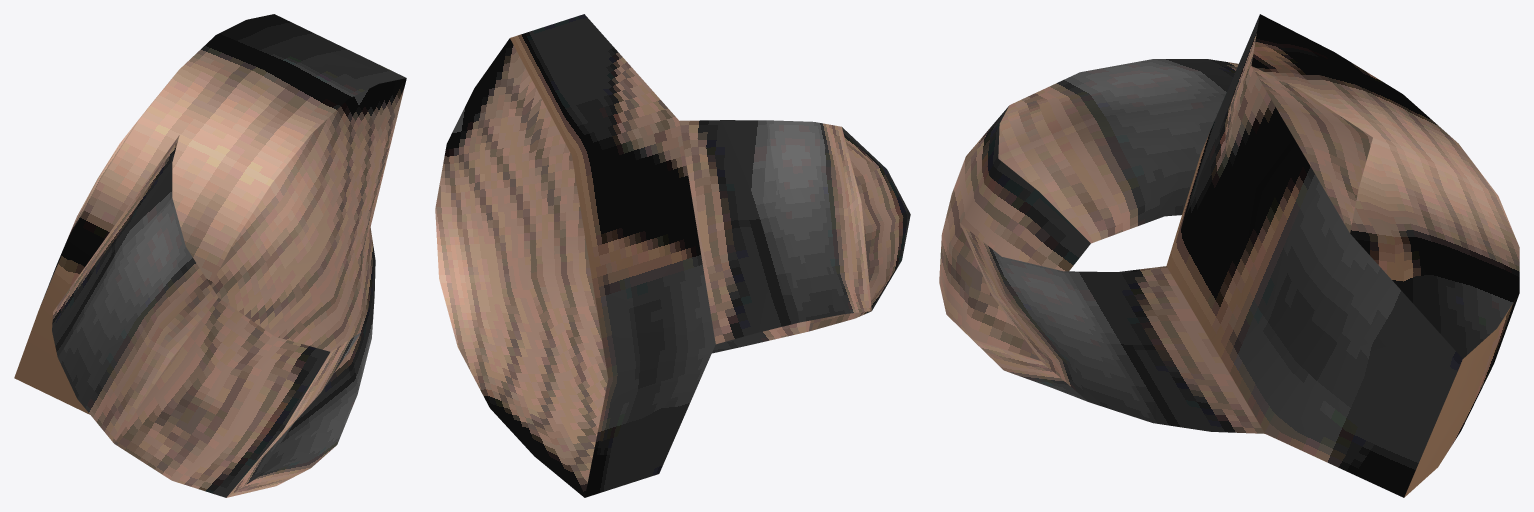
The model's file is ps2_save-icons_digital-devil-saga-2.glb.
3 renders of one model, left to right at view 1: azimuth 30°, elevation 25°; view 2: azimuth 150°, elevation 25°; view 3: azimuth 270°, elevation 25°, orthographic. The views are drawn at different scales.
Visible parts, largest first — view 1: base.ico; view 2: base.ico; view 3: base.ico.
Boxes of the visible parts, box(x1,y1,x2,y2) form: base.ico: box(14, 14, 406, 497); base.ico: box(435, 14, 910, 497); base.ico: box(939, 14, 1519, 497).
Bounding box in the file's own units: 2.87 × 3.53 × 3.58.
1 material, 1 textured.
